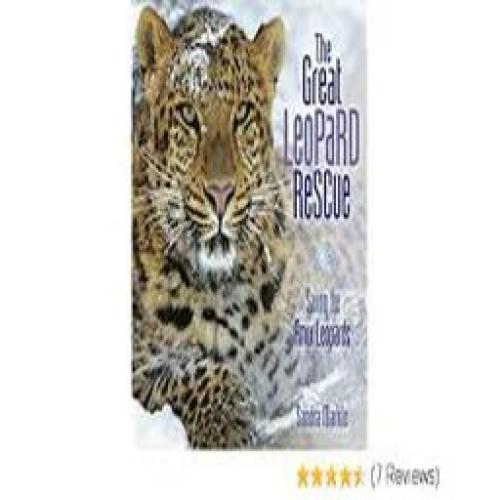amur_leopard-endangered: (125, 6, 291, 450)
